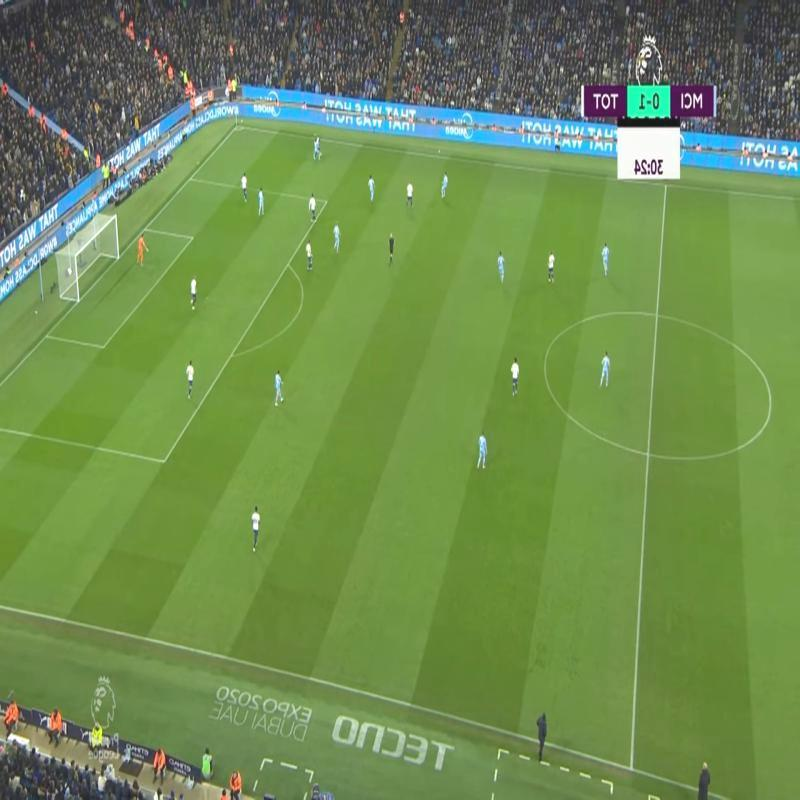1: (230, 118, 245, 134)
10: (281, 257, 295, 271)
11: (38, 328, 55, 345), (224, 348, 240, 365)
12: (158, 454, 172, 470)
13: (658, 178, 673, 194)
14: (648, 307, 665, 324)
15: (640, 446, 656, 462)
16: (622, 759, 640, 779)
2: (182, 170, 196, 188)
3: (140, 220, 150, 237)
7: (187, 228, 198, 248)
8: (96, 340, 112, 356)
9: (320, 196, 334, 208)
c: (760, 396, 778, 412), (538, 357, 554, 372)
